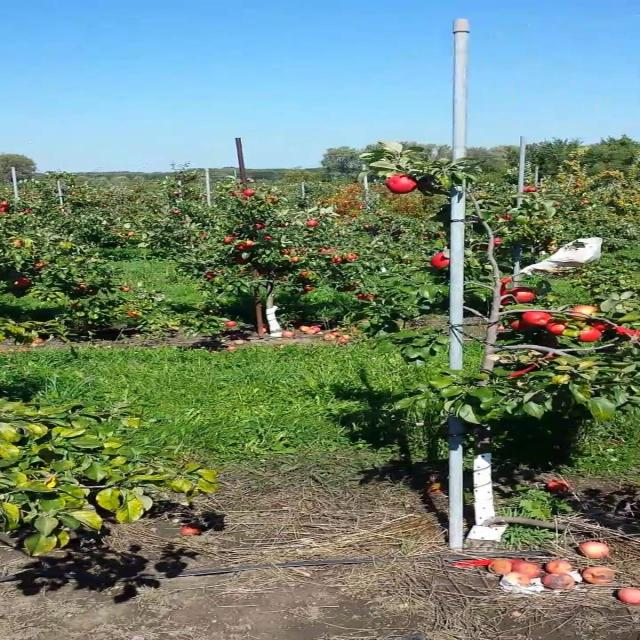apple: (390, 176, 420, 196), (568, 304, 601, 321), (575, 328, 604, 344), (525, 312, 555, 327), (518, 288, 539, 304), (433, 252, 453, 268), (547, 324, 569, 336), (540, 336, 562, 348), (511, 320, 532, 332), (589, 324, 617, 332), (497, 296, 516, 305), (625, 328, 639, 338), (618, 328, 635, 336)
